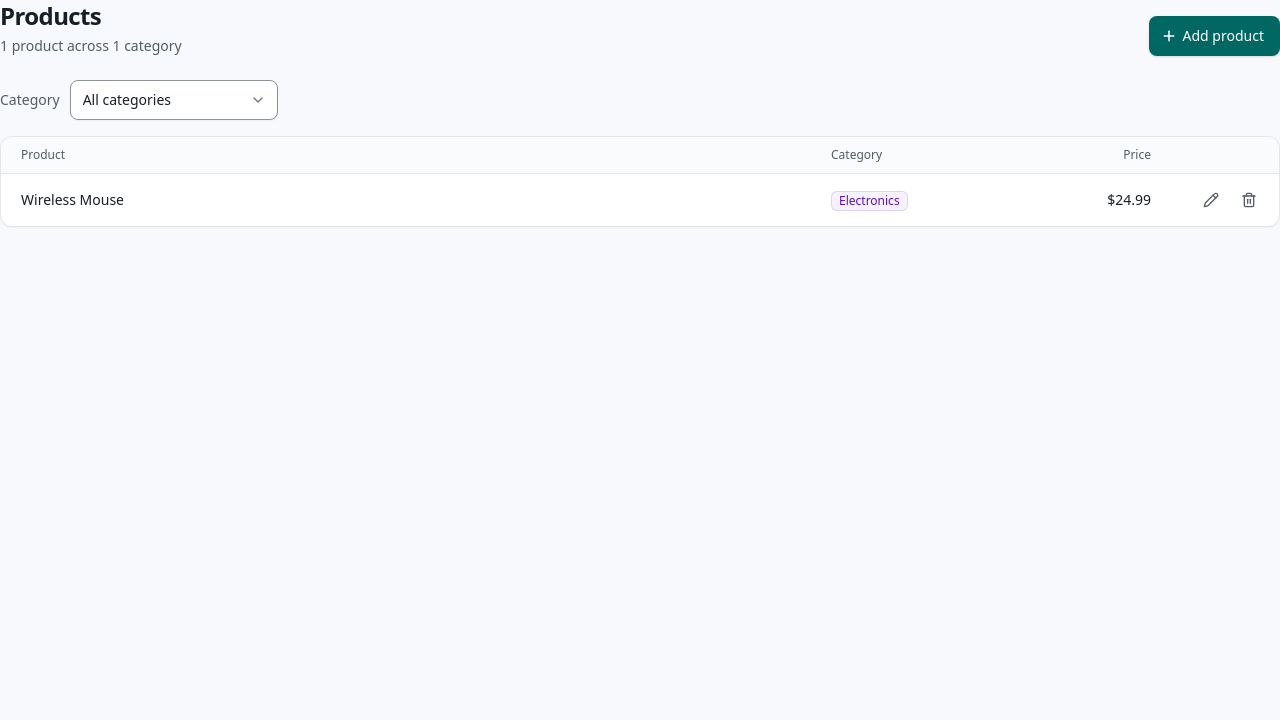
add product › discards unsaved changes from the close button after confirming
Expected: the table is shown, [1,137,1279,226]
Click the button "Add product" at point(1214, 36), box [1149,16,1279,56]
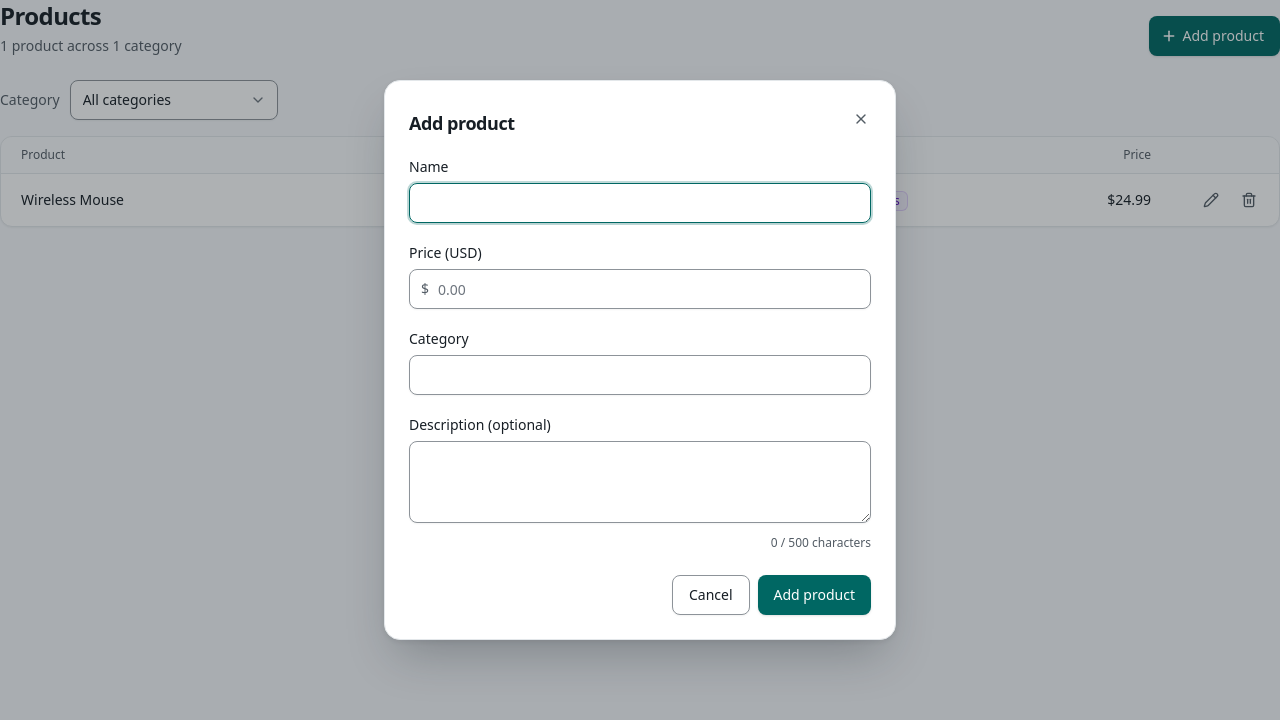
Type "Draft" into the field labelled "Name" at point(640, 203), box [409,183,871,223]
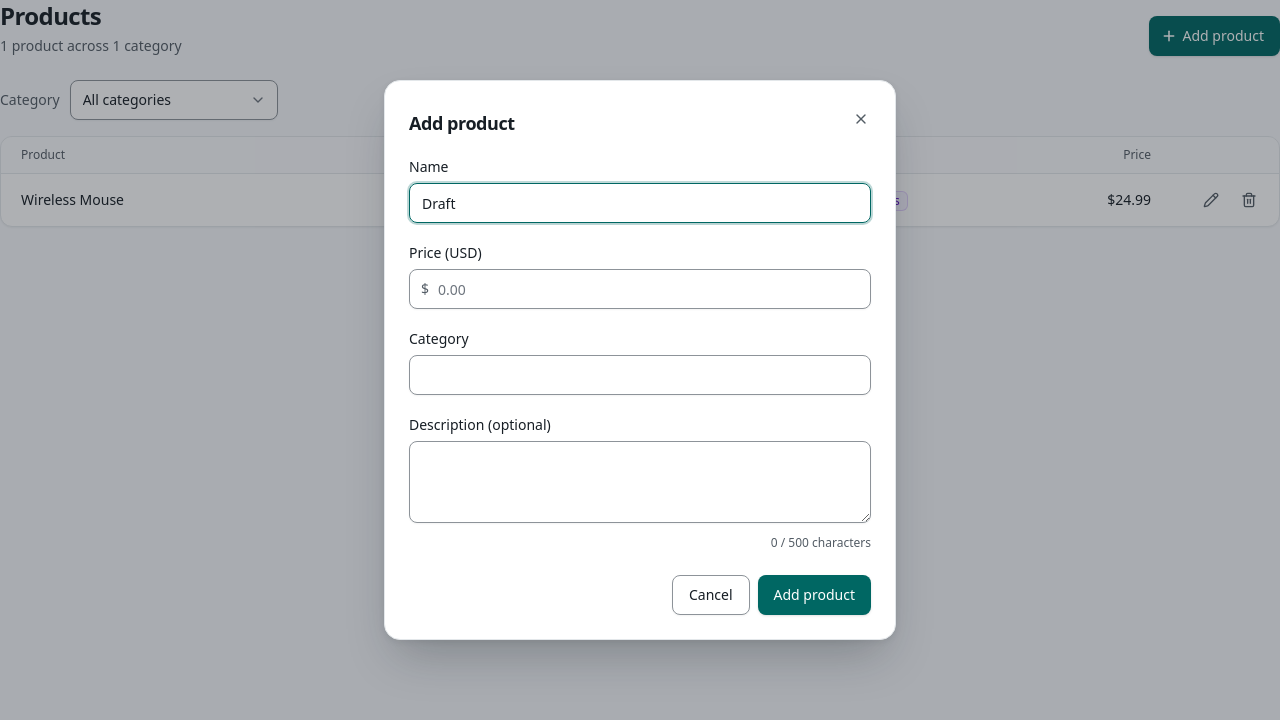
Click the button named "Close" at point(861, 119), box [843,101,879,137]
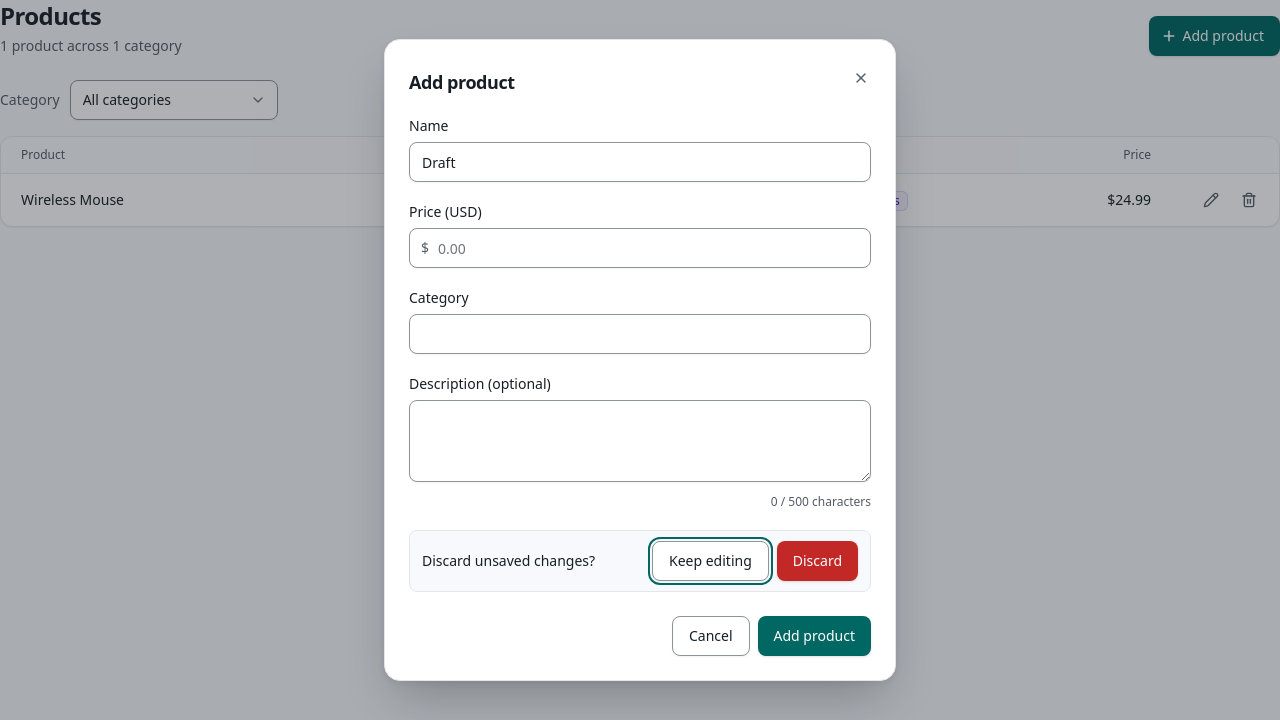
Click the button "Discard" at point(817, 561), box [777,541,858,581]
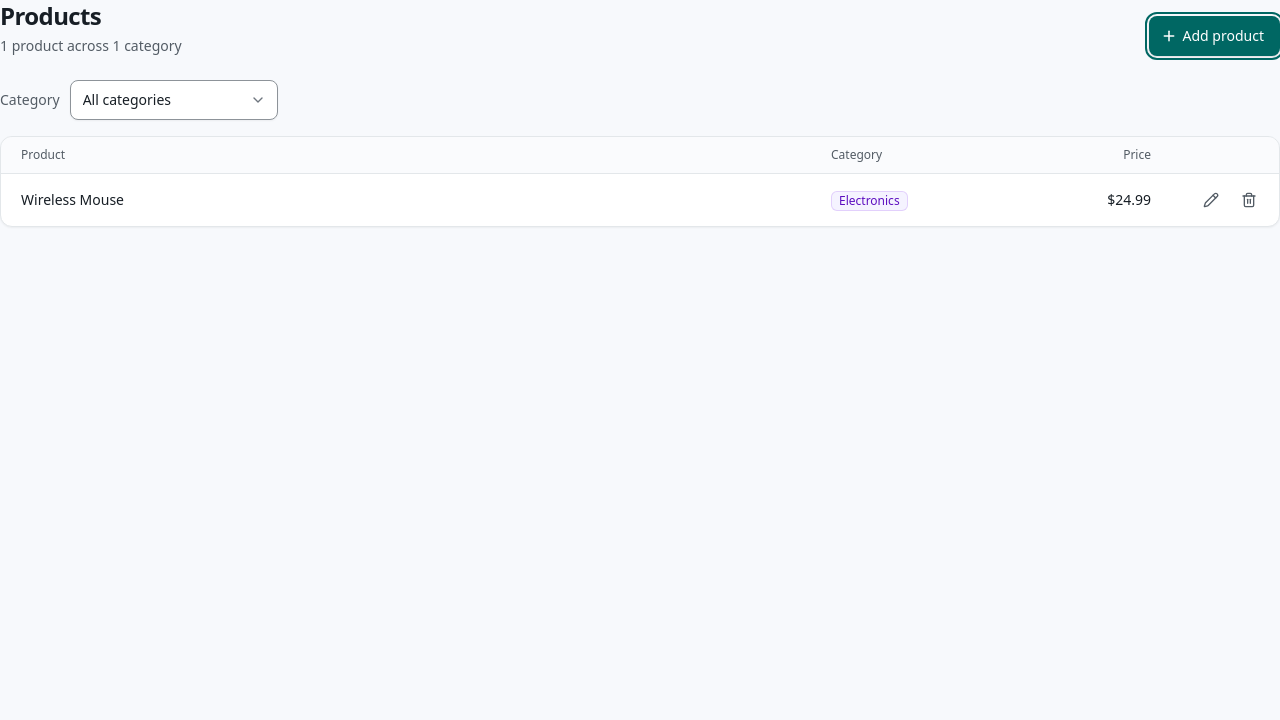
Expected: the dialog is gone
